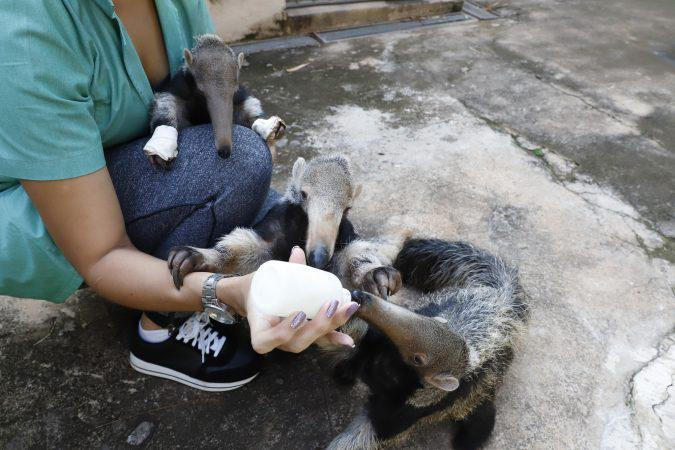TamanduaBandeira: (356, 228, 533, 441), (253, 150, 395, 294), (148, 31, 298, 167)
